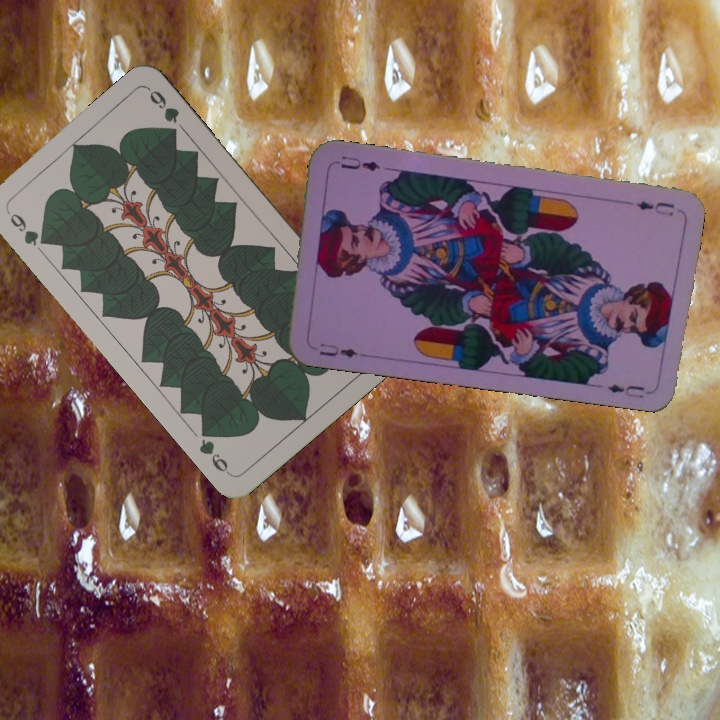EU: (632, 196, 677, 219), (316, 339, 360, 360)
G9: (2, 206, 52, 249)
